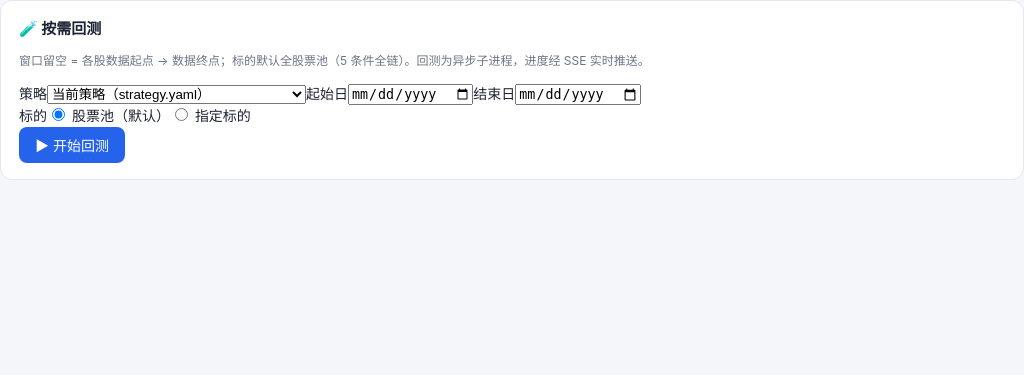
BacktestTab · 结果区（SSE done → /api/bt/results） › SSE 期间 progress 事件 → 进度面板更新（TaskProgress 只读 taskStore）
The image size is (1024, 375).
Click the button with id "btn-bt-run": (72, 145) x1=19 y1=127 x2=125 y2=163
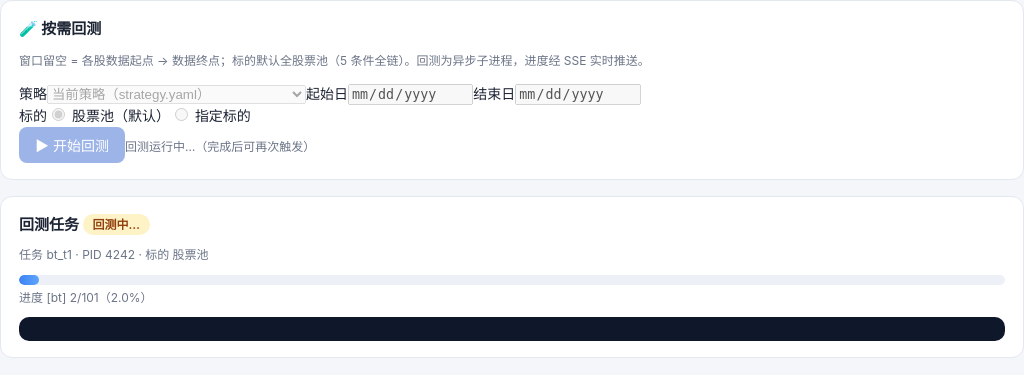
Expected: the text "2/101" is shown, x1=19 y1=290 x2=153 y2=304
